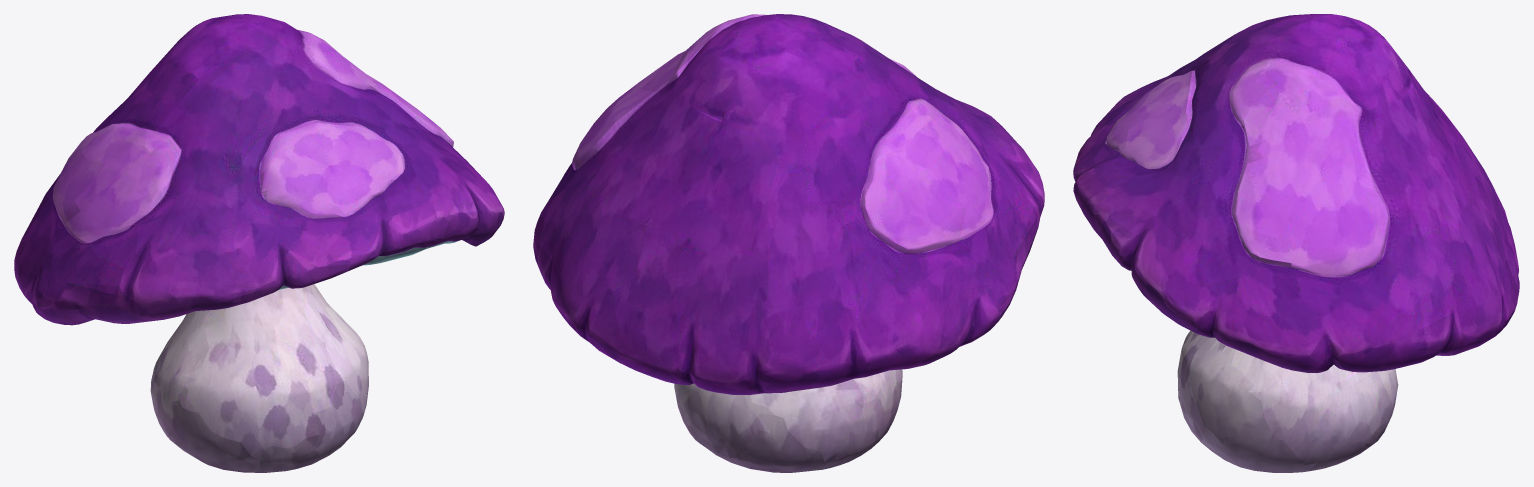
The model's file is amethyst-toadstool.glb.
The picture shows the model from 3 angles, left to right: view 1: azimuth 30°, elevation 25°; view 2: azimuth 150°, elevation 25°; view 3: azimuth 270°, elevation 25°; orthographic projection. The views are drawn at different scales.
Parts seen in each view (by area): view 1: output_unwrapped; view 2: output_unwrapped; view 3: output_unwrapped.
Boxes of the visible parts, box(x1,y1,x2,y2) form: output_unwrapped: box(14, 14, 504, 472); output_unwrapped: box(533, 14, 1044, 472); output_unwrapped: box(1073, 14, 1519, 472).
Bounding box in the file's own units: 0.4284 × 0.4 × 0.3786.
1 material, 1 textured.
